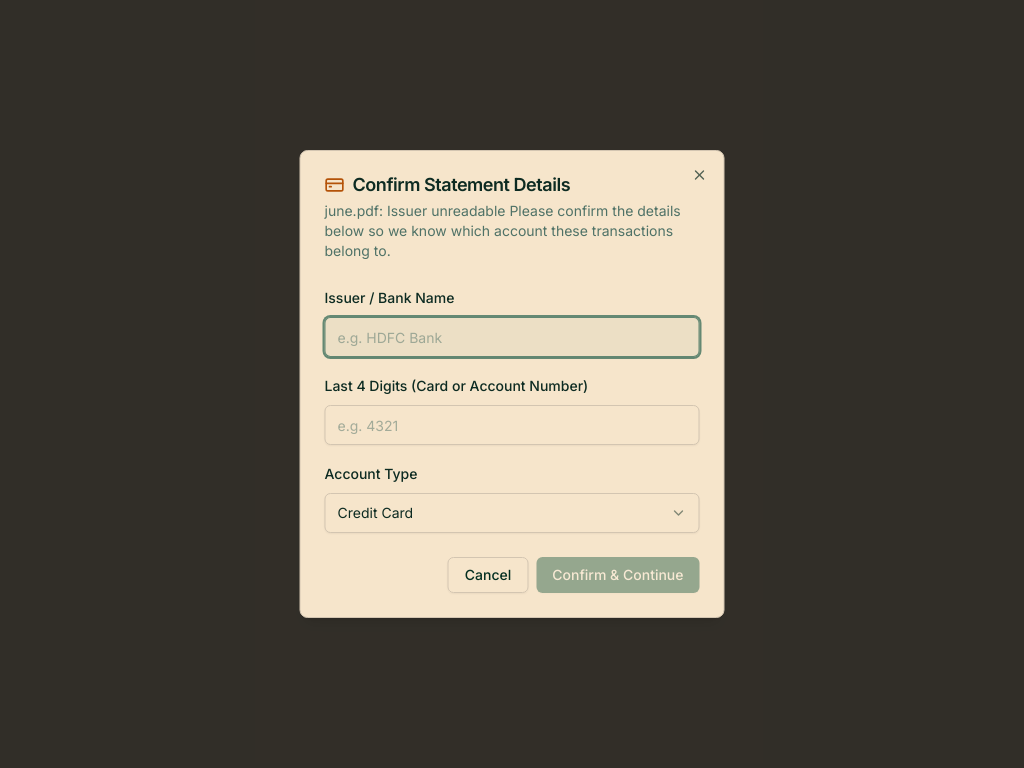
Test: InstrumentGateDialog › keeps Confirm disabled until both issuer and last-4 are filled
Expected: the button with aria-label "Confirm statement instrument details" is disabled, [536,557,700,593]
Type "Axis" into the field labelled "Issuer / Bank Name" at coordinates (512, 337), box [324,317,700,357]
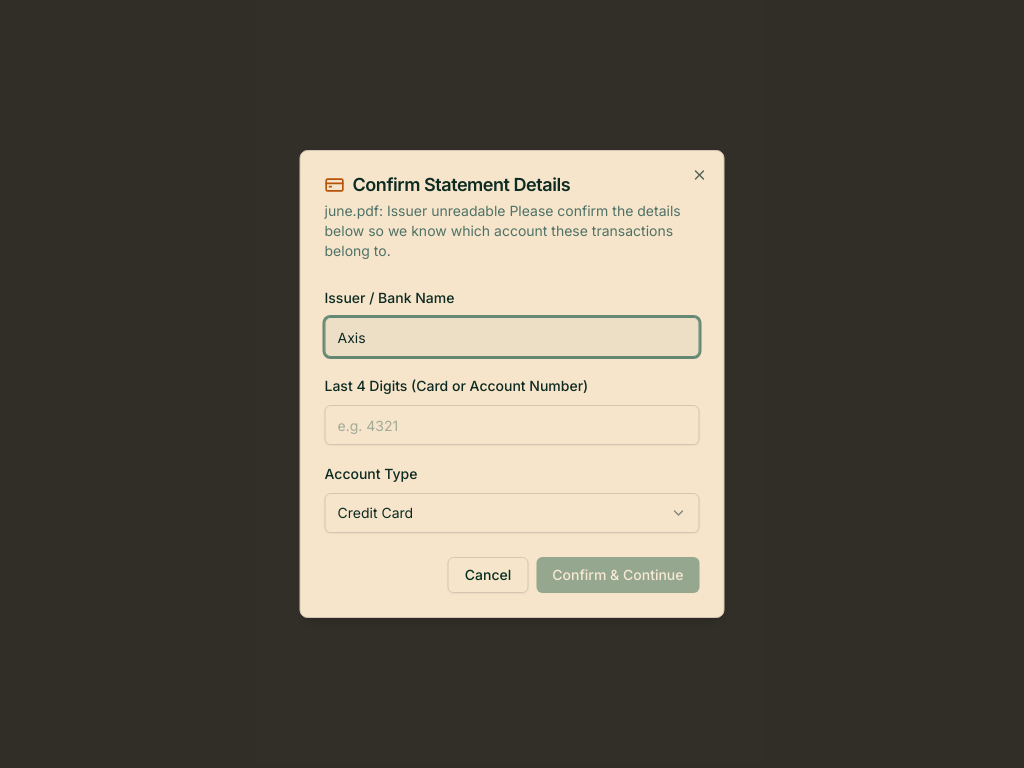
Expected: the button with aria-label "Confirm statement instrument details" is disabled, [536,557,700,593]
Type "4321" into the field labelled "Last 4 Digits (Card or Account Number)" at coordinates (512, 425), box [324,405,700,445]
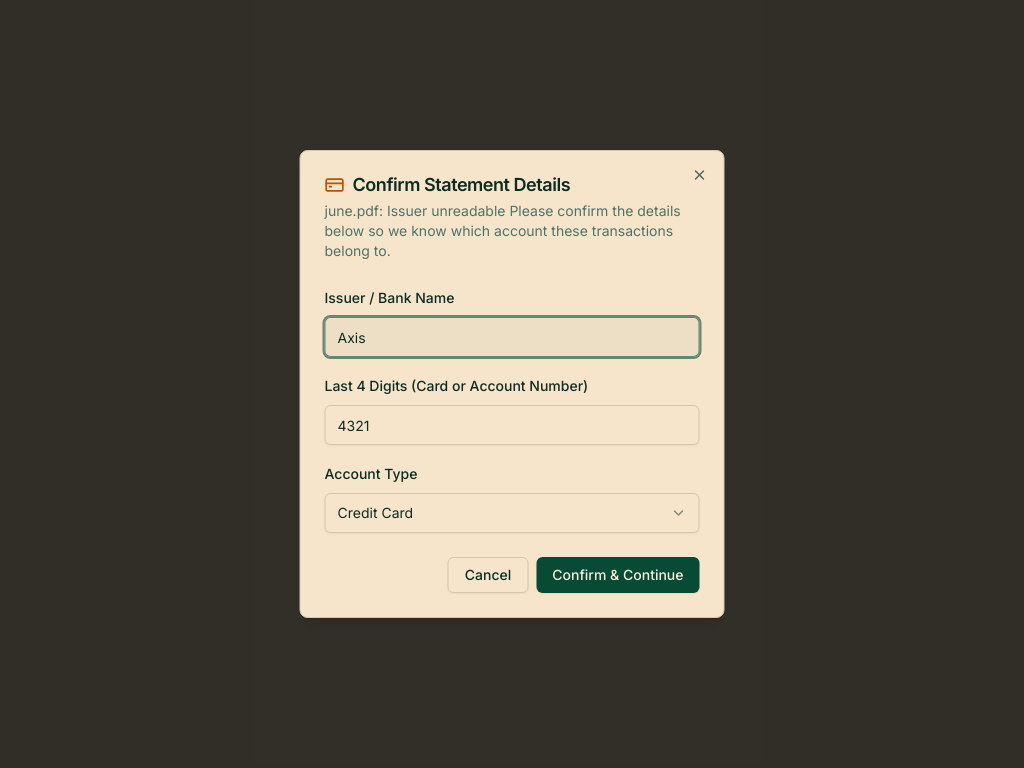
Expected: the button with aria-label "Confirm statement instrument details" is enabled, [536,557,700,593]
